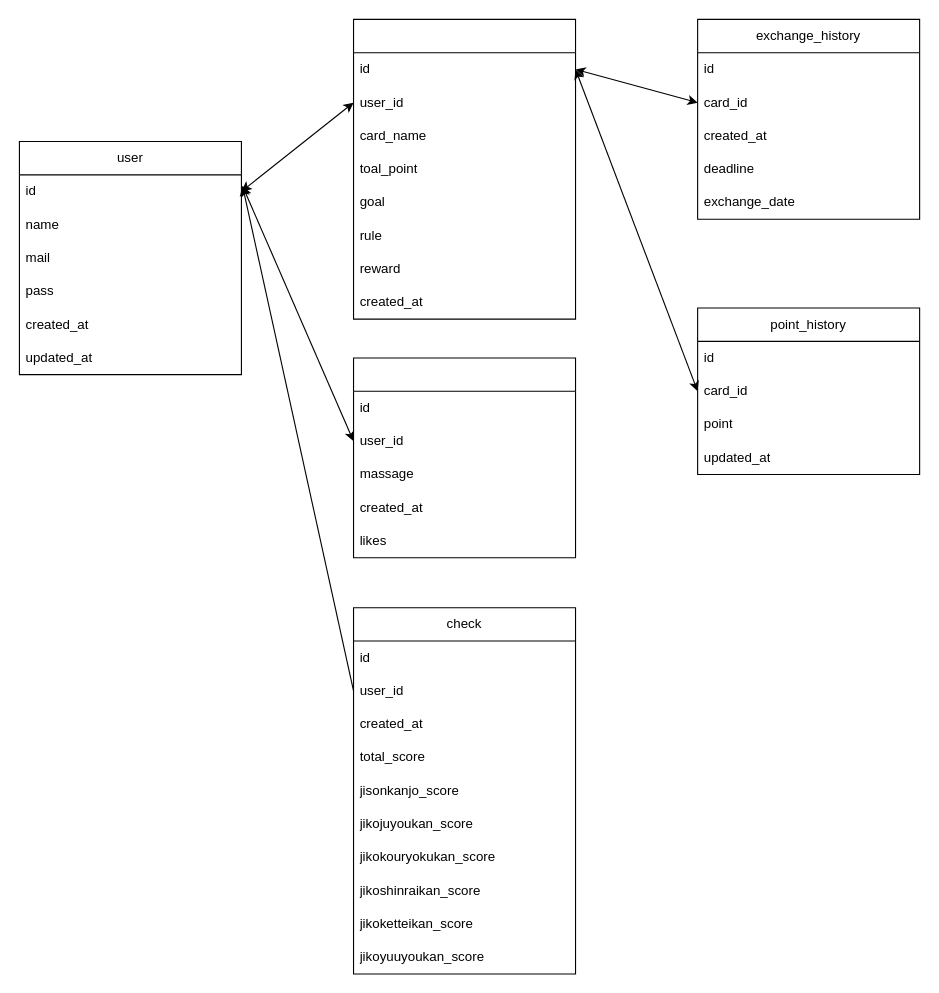
Image size: 939x993. Some labels were removed from this diagram. The box of each missing label's shape, as (x1, y1, x2, y2) in pixels:
affirmations: (352, 357, 576, 558)
reward_card: (352, 18, 576, 319)
